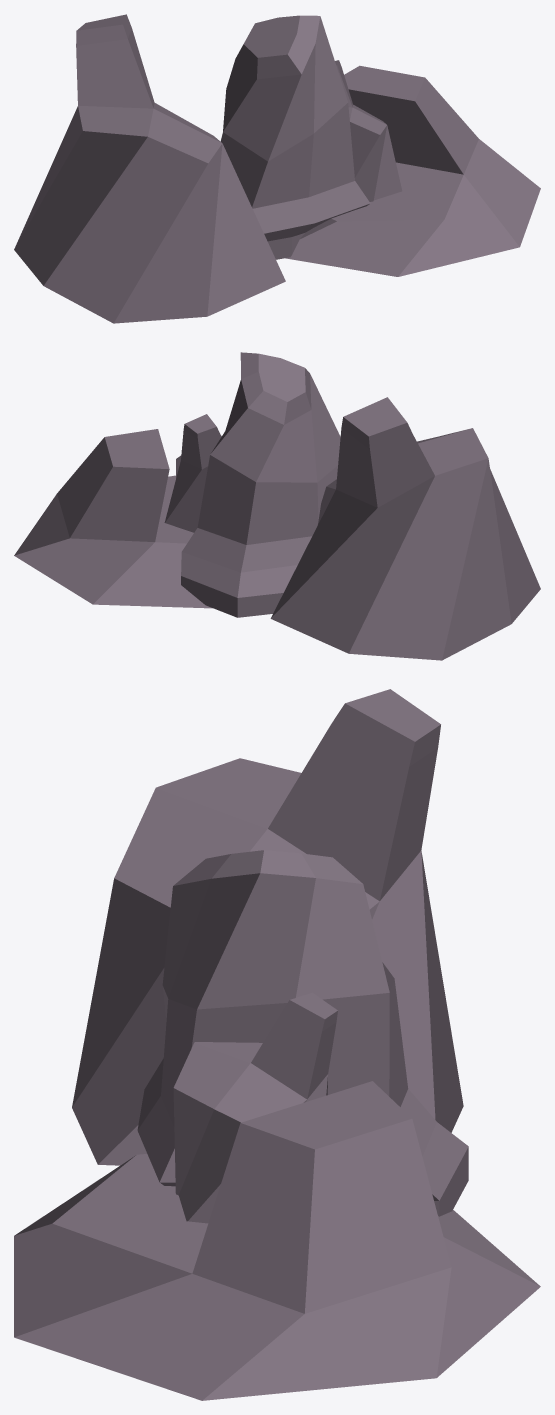
File: Rock_v17.fbx
3 views of the same model, one above another, from view 1: azimuth 30°, elevation 25°; view 2: azimuth 150°, elevation 25°; view 3: azimuth 270°, elevation 25° (orthographic). The views are drawn at different scales.
Parts seen in each view (by area): view 1: Rock_v17; view 2: Rock_v17; view 3: Rock_v17.
Part boxes in pixels (x1,y1,x2,y2): Rock_v17: (14,14,540,323); Rock_v17: (14,352,540,660); Rock_v17: (14,689,540,1400).
Size of the model in its own units: 77.36 by 36.29 by 43.24.
1 material, 1 textured.
